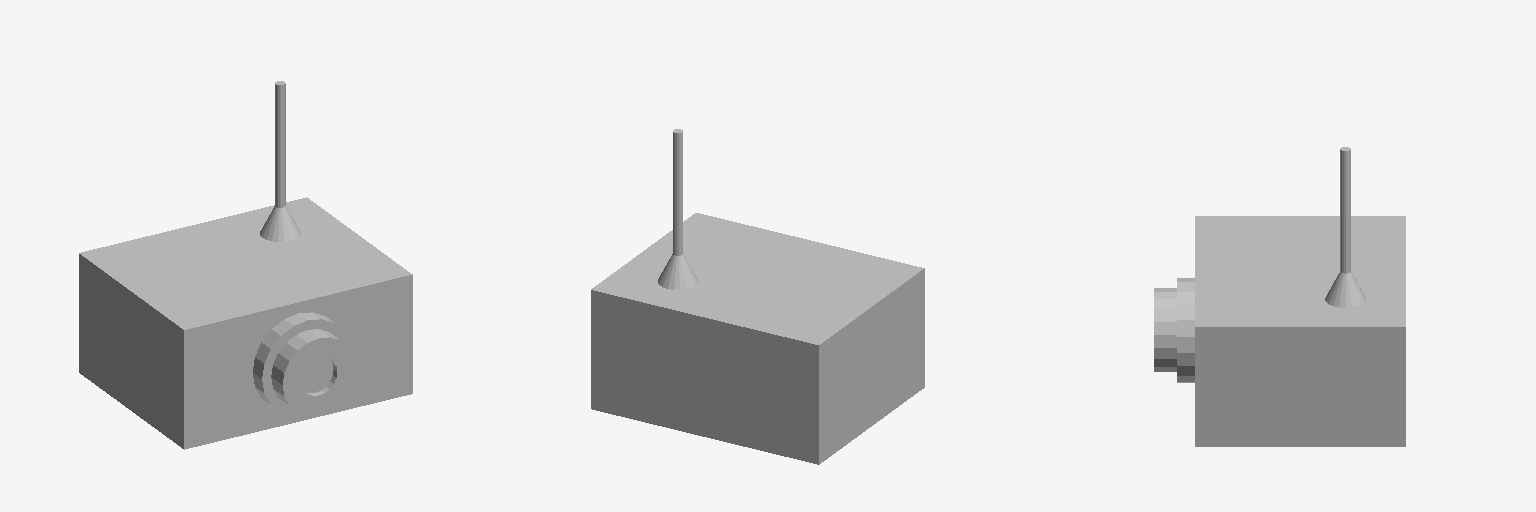
Rendered from robotHead.obj.
3 views of the same model, side by side, from view 1: azimuth 30°, elevation 25°; view 2: azimuth 150°, elevation 25°; view 3: azimuth 270°, elevation 25° (orthographic).
Parts seen in each view (by area): view 1: robotHead:pCube3; view 2: robotHead:pCube3; view 3: robotHead:pCube3.
Part boxes in pixels (left/top/right/bottom): robotHead:pCube3: left=79, top=81, right=412, bottom=449; robotHead:pCube3: left=591, top=129, right=924, bottom=464; robotHead:pCube3: left=1154, top=147, right=1405, bottom=446.
Bounding box in the file's own units: 1 × 1.13 × 0.9573.